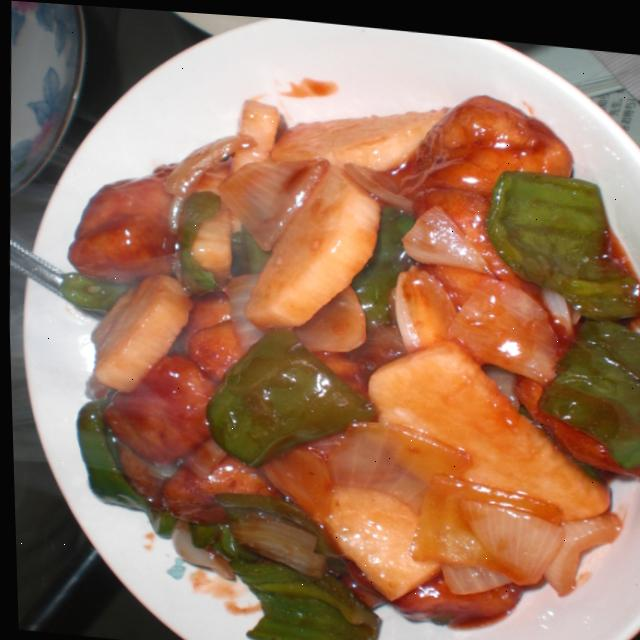猪肉菜式: (43, 49, 640, 640)
